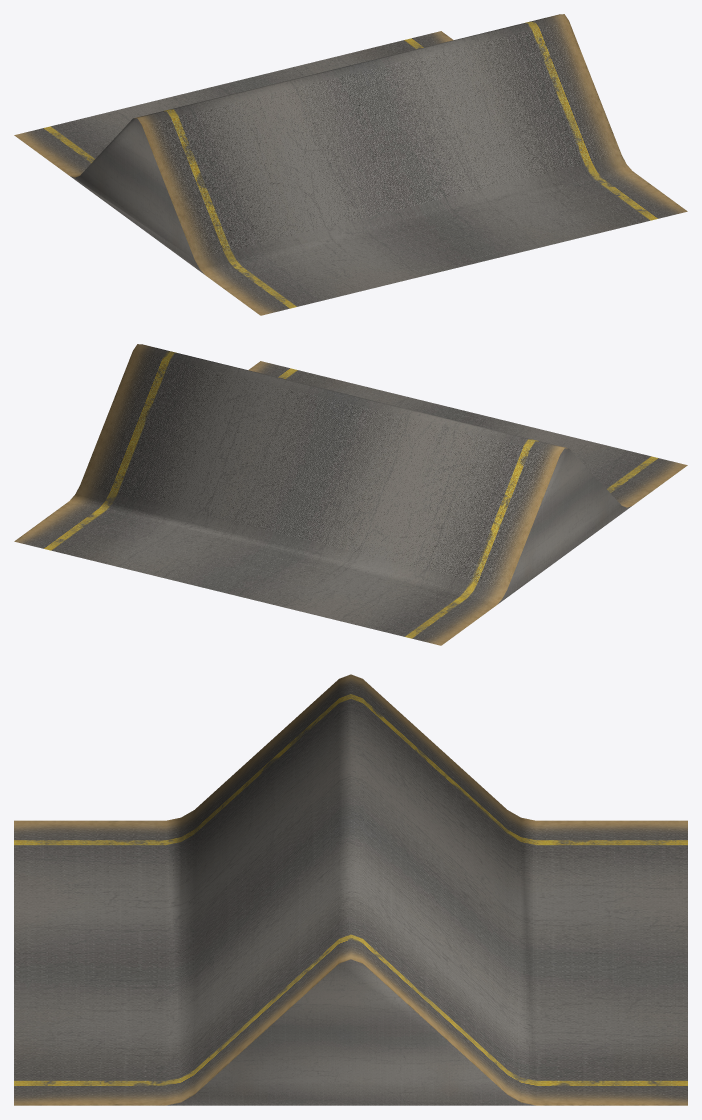
File: road.104.fbx
The picture shows the model from 3 angles, top to bottom: view 1: azimuth 30°, elevation 25°; view 2: azimuth 150°, elevation 25°; view 3: azimuth 270°, elevation 25°; orthographic projection. The views are drawn at different scales.
Visible parts, largest first — view 1: road_104; view 2: road_104; view 3: road_104.
Part boxes in pixels (left/top/right/bottom): road_104: left=14, top=14, right=687, bottom=315; road_104: left=14, top=344, right=687, bottom=645; road_104: left=14, top=674, right=687, bottom=1105.
Size of the model in its own units: 8 by 1.92 by 8.
